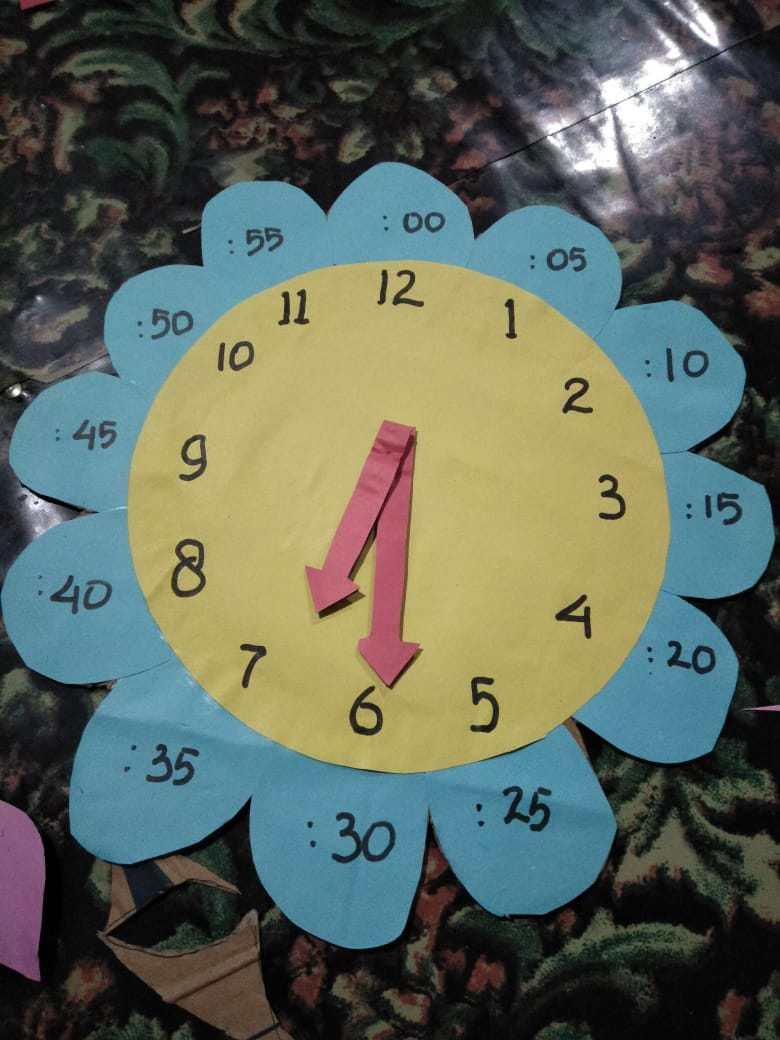jam dinding: (12, 149, 768, 974)
